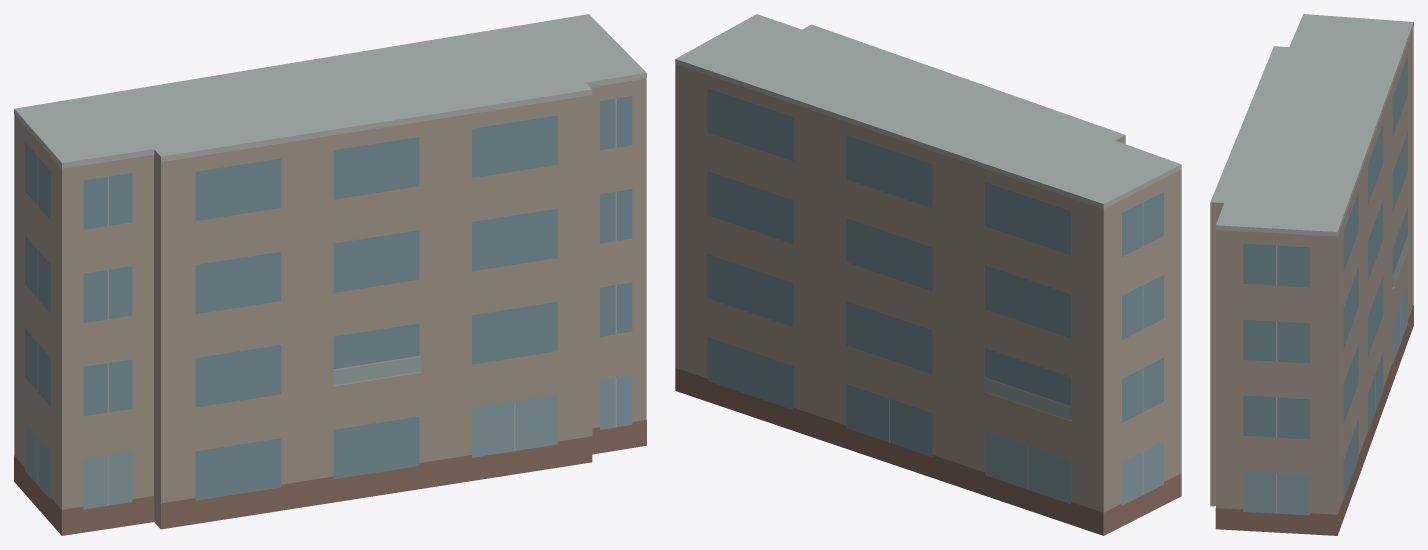
File: survey-upis-32804837.glb
3 views of the same model, side by side, from view 1: azimuth 30°, elevation 25°; view 2: azimuth 150°, elevation 25°; view 3: azimuth 270°, elevation 25° (orthographic). The views are drawn at different scales.
Parts seen in each view (by area): view 1: survey-upis-32804837.tmp; view 2: survey-upis-32804837.tmp; view 3: survey-upis-32804837.tmp.
Boxes of the visible parts, <box> form: survey-upis-32804837.tmp: <box>14,14,646,535</box>; survey-upis-32804837.tmp: <box>675,14,1181,535</box>; survey-upis-32804837.tmp: <box>1210,14,1413,535</box>.
Bounding box in the file's own units: 24.78 × 16.1 × 9.78.
